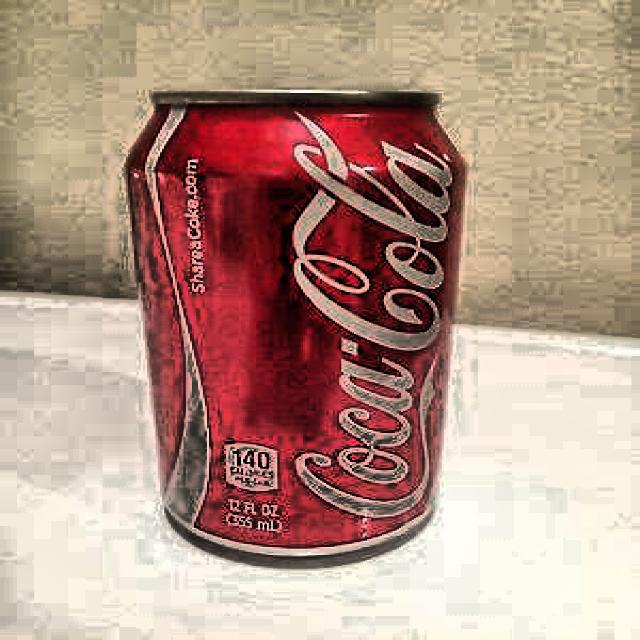Cans: (99, 59, 461, 574)
